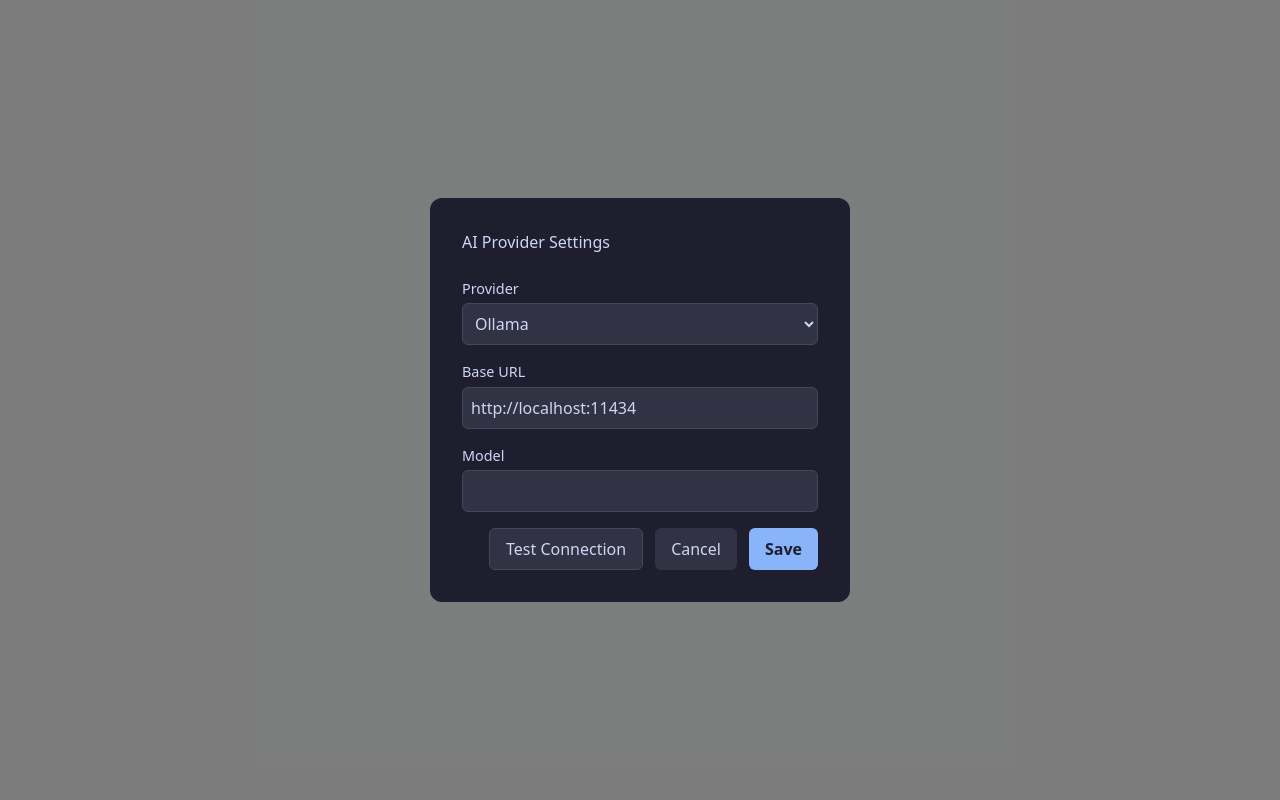
AIProviderSettingsPanel › shows API key field for non-local providers
This screenshot has width=1280, height=800.
Select "OpenAI" in the dropdown with test id "ai-provider-select" at x=640, y=324, box [462,303,818,345]
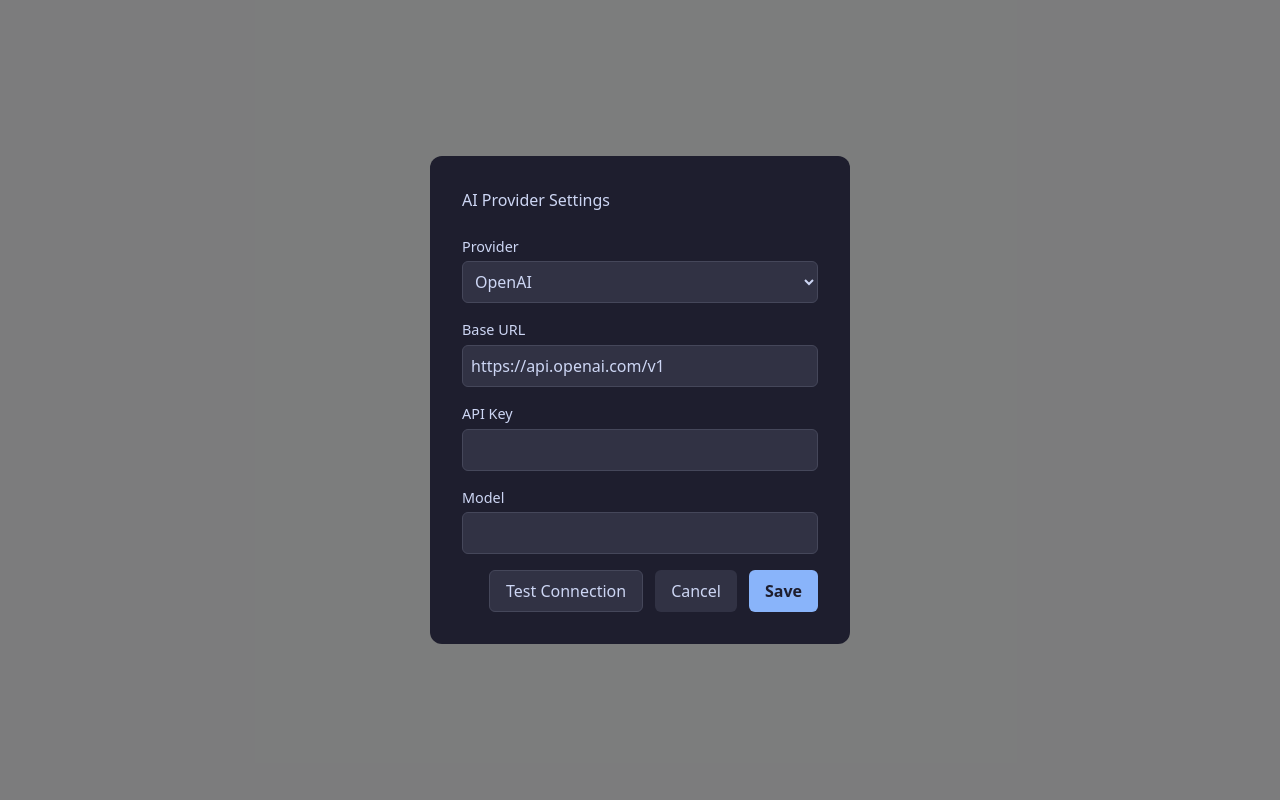
expect the password field with test id "ai-api-key-input" is shown: met, box [462,429,818,471]
